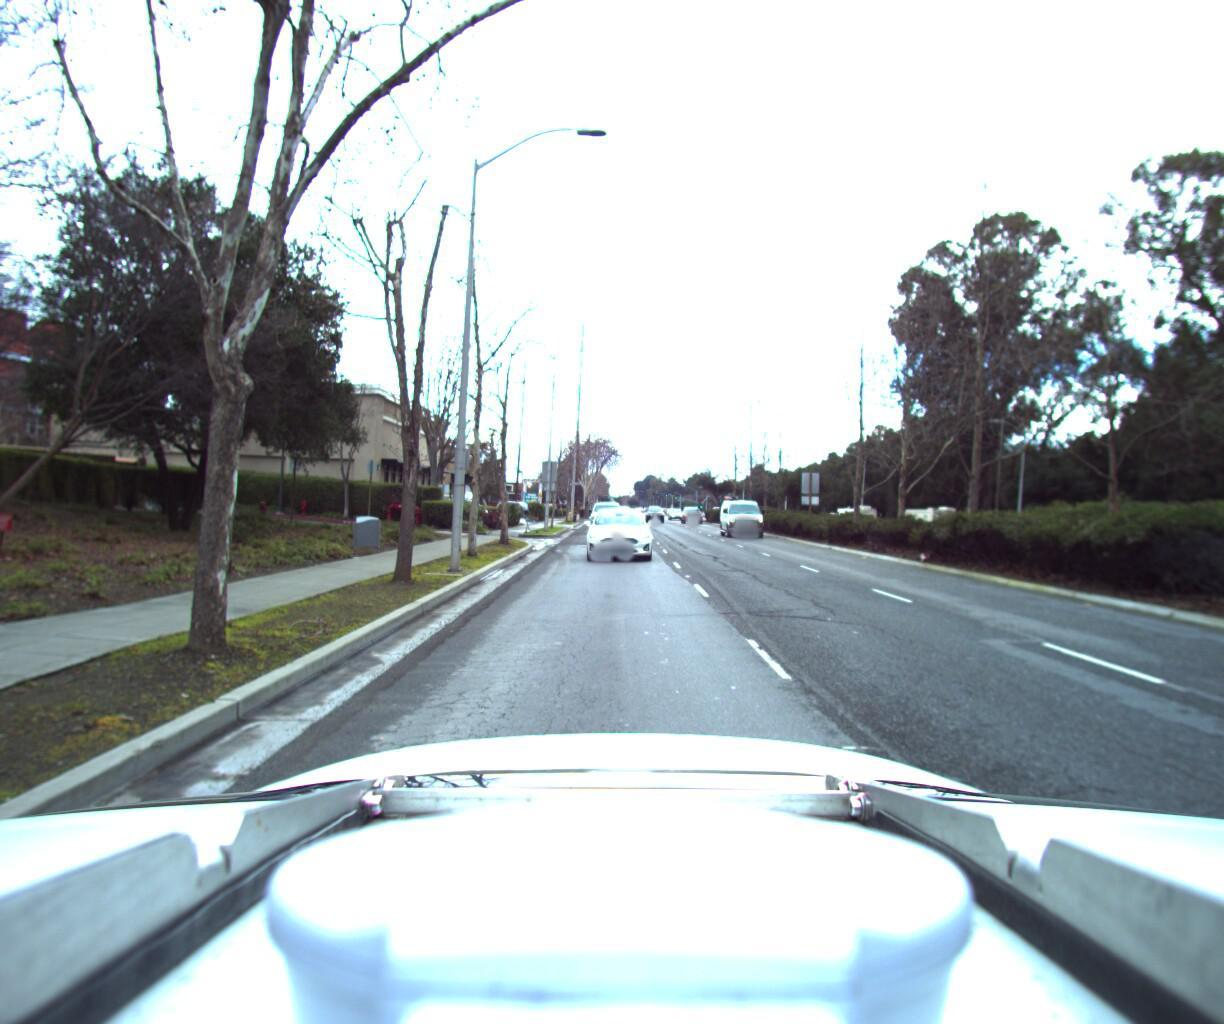car: (578, 497, 653, 557), (718, 484, 774, 533), (681, 499, 705, 518), (642, 498, 663, 516)
other_vehicle: (900, 496, 963, 532)
